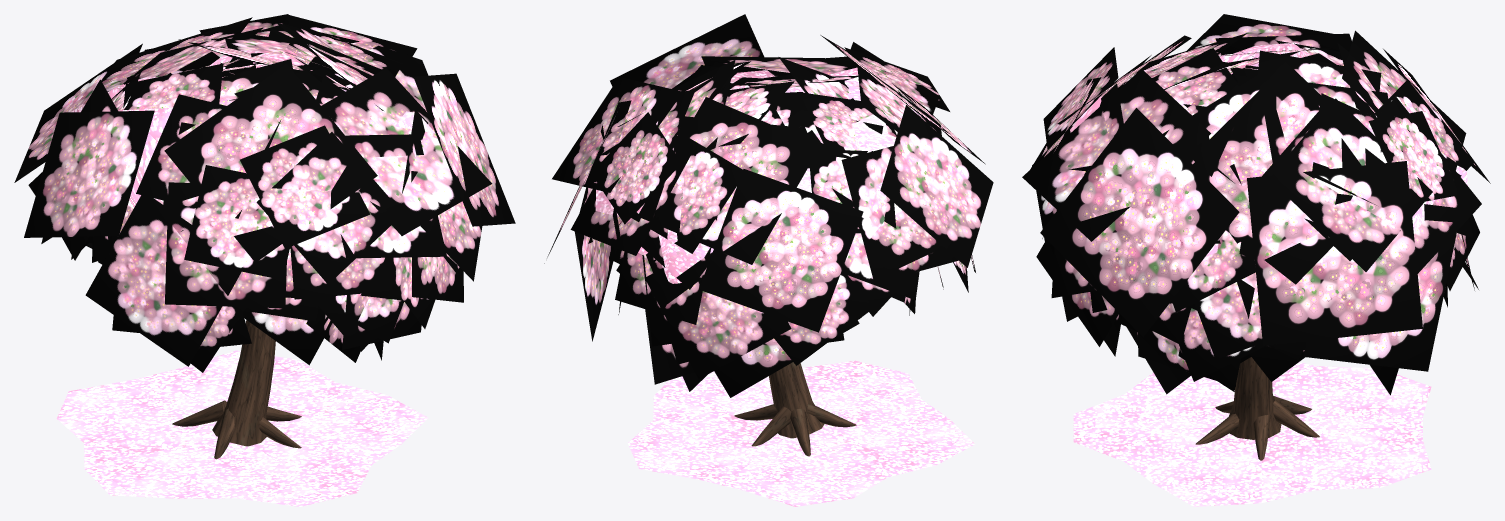
Rendered from tree_sakura.gltf.
The picture shows the model from 3 angles, left to right: view 1: azimuth 30°, elevation 25°; view 2: azimuth 150°, elevation 25°; view 3: azimuth 270°, elevation 25°; orthographic projection. The views are drawn at different scales.
Parts seen in each view (by area): view 1: Crown, Trunk; view 2: Crown, Trunk; view 3: Crown, Trunk.
Part boxes in pixels (bbox=[...]): Crown: bbox=[14, 14, 515, 372]; Trunk: bbox=[56, 320, 428, 506]; Crown: bbox=[544, 14, 993, 397]; Trunk: bbox=[628, 360, 974, 506]; Crown: bbox=[1022, 14, 1490, 395]; Trunk: bbox=[1073, 357, 1431, 506].
Size of the model in its own units: 9.15 by 8.1 by 8.46.
3 materials, 3 textured.
